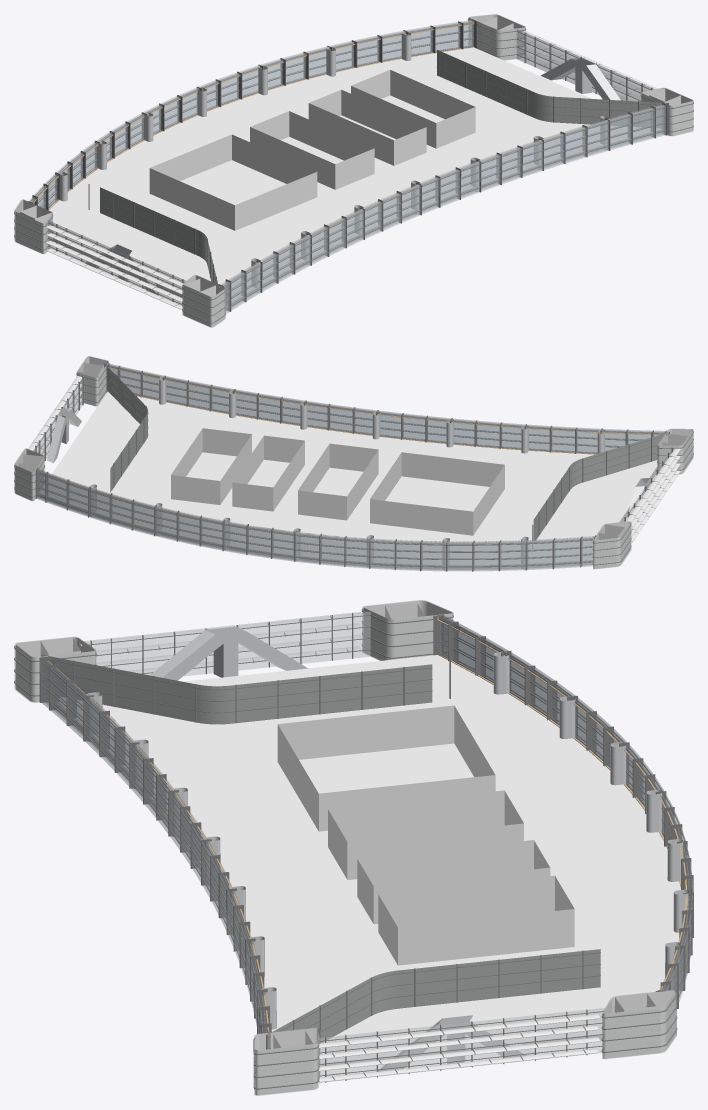
3 views of the same model, one above another, from view 1: azimuth 30°, elevation 25°; view 2: azimuth 150°, elevation 25°; view 3: azimuth 270°, elevation 25° (orthographic). The views are drawn at different scales.
Visible parts, largest first — view 1: floor.036; view 2: floor.036; view 3: floor.036.
Part boxes in pixels (box(x1,y1,x2,y2)): floor.036: box(14, 14, 693, 327); floor.036: box(14, 356, 693, 571); floor.036: box(14, 600, 693, 1095).
Bounding box in the file's own units: 82 × 3.82 × 52.21.
Materials: 14 (1 with a texture image).
